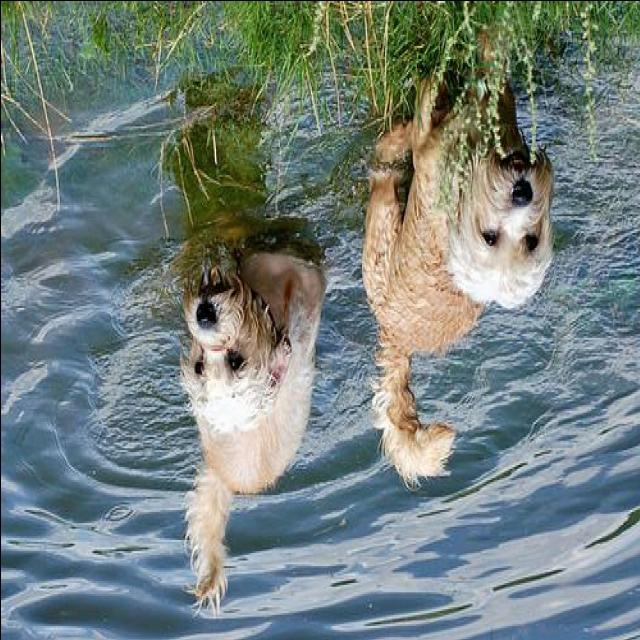dandie_dinmont: (360, 24, 554, 492), (175, 251, 325, 614)
